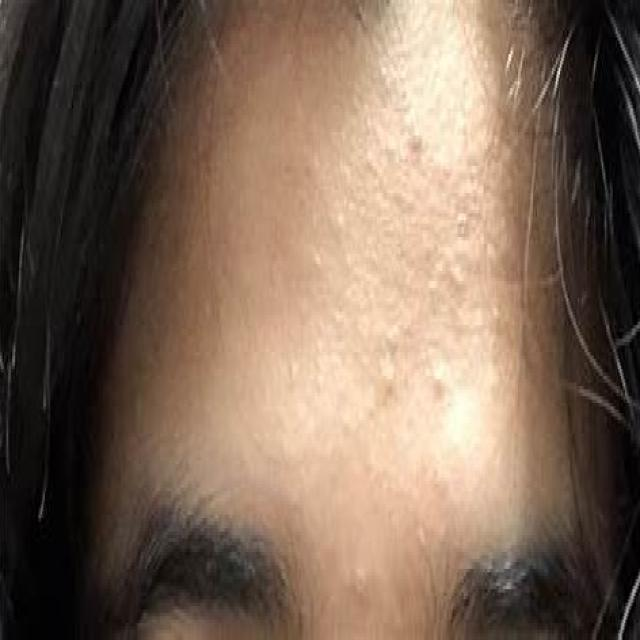fungal: (291, 56, 502, 506)
